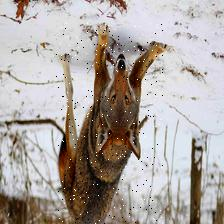WOLF: (56, 23, 163, 224)
